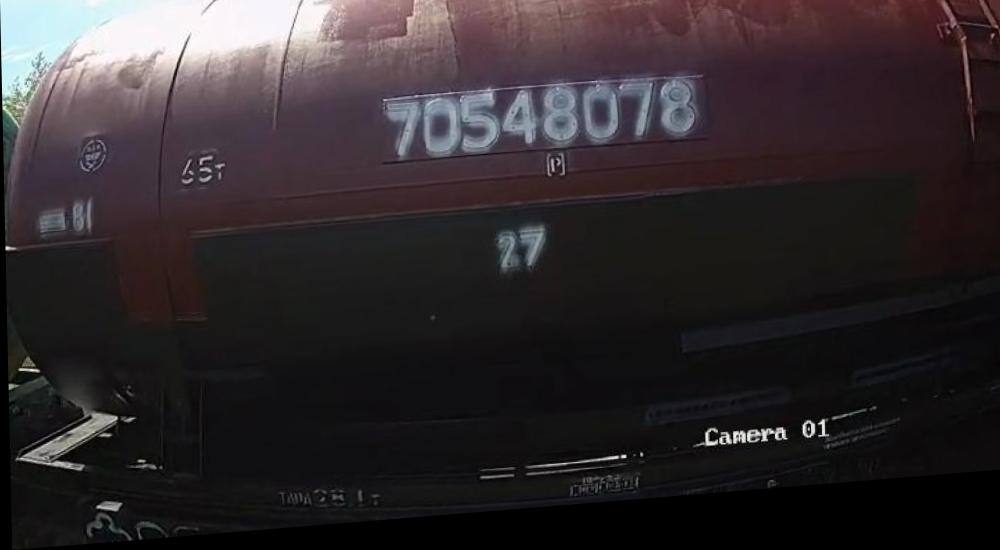Wagon-number: (382, 84, 702, 173)
